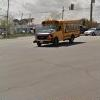Bus: (32, 15, 87, 50)
